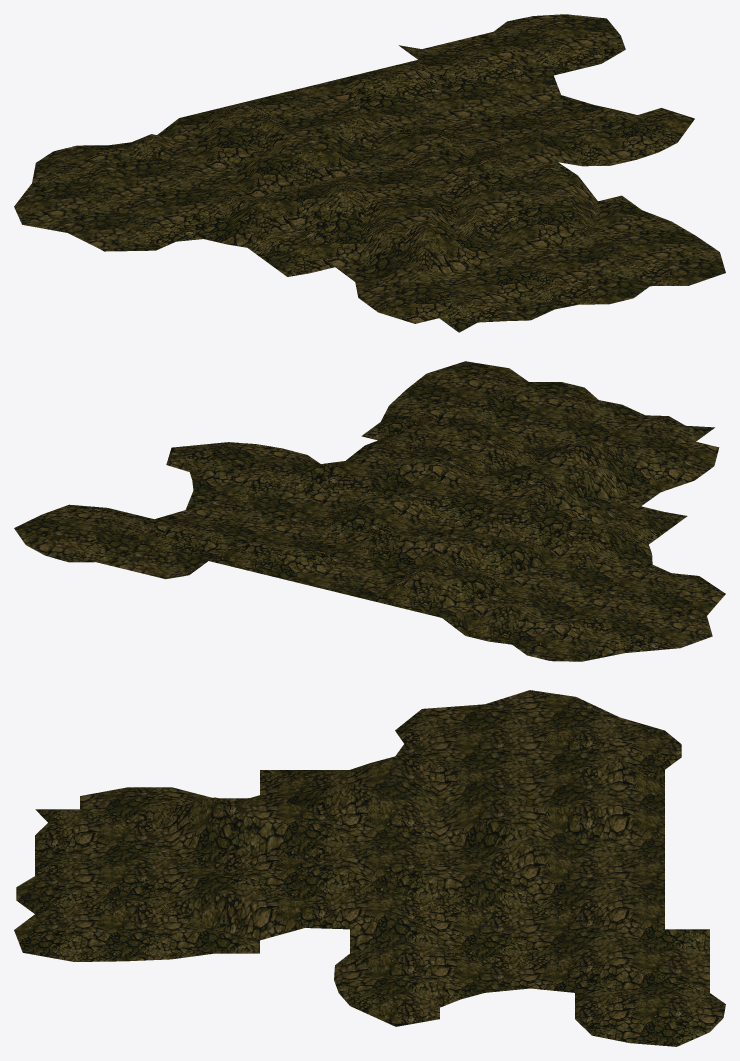
File: FORGE_HOT_AND_COLD_COALPILES_FORGE_COALPILE_COLD.fbx
3 views of the same model, one above another, from view 1: azimuth 30°, elevation 25°; view 2: azimuth 150°, elevation 25°; view 3: azimuth 270°, elevation 25° (orthographic). The views are drawn at different scales.
Parts seen in each view (by area): view 1: FORGE_HOT_AND_COLD_COALPILES_FORGE_COALPILE_COLD; view 2: FORGE_HOT_AND_COLD_COALPILES_FORGE_COALPILE_COLD; view 3: FORGE_HOT_AND_COLD_COALPILES_FORGE_COALPILE_COLD.
Part boxes in pixels (x1,y1,x2,y2): FORGE_HOT_AND_COLD_COALPILES_FORGE_COALPILE_COLD: (14, 14, 725, 332); FORGE_HOT_AND_COLD_COALPILES_FORGE_COALPILE_COLD: (14, 361, 725, 661); FORGE_HOT_AND_COLD_COALPILES_FORGE_COALPILE_COLD: (14, 690, 725, 1046).
Size of the model in its own units: 150345 by 8945 by 126758.
Materials: 1 (1 with a texture image).
